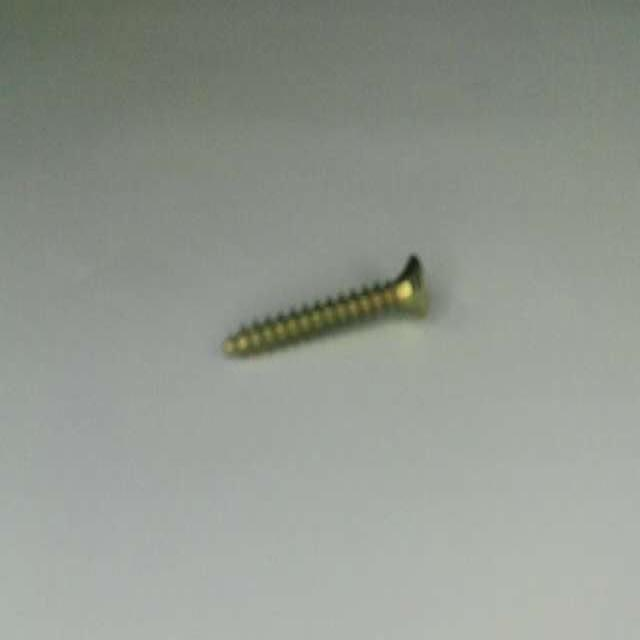Parafuso: (225, 256, 425, 355)
